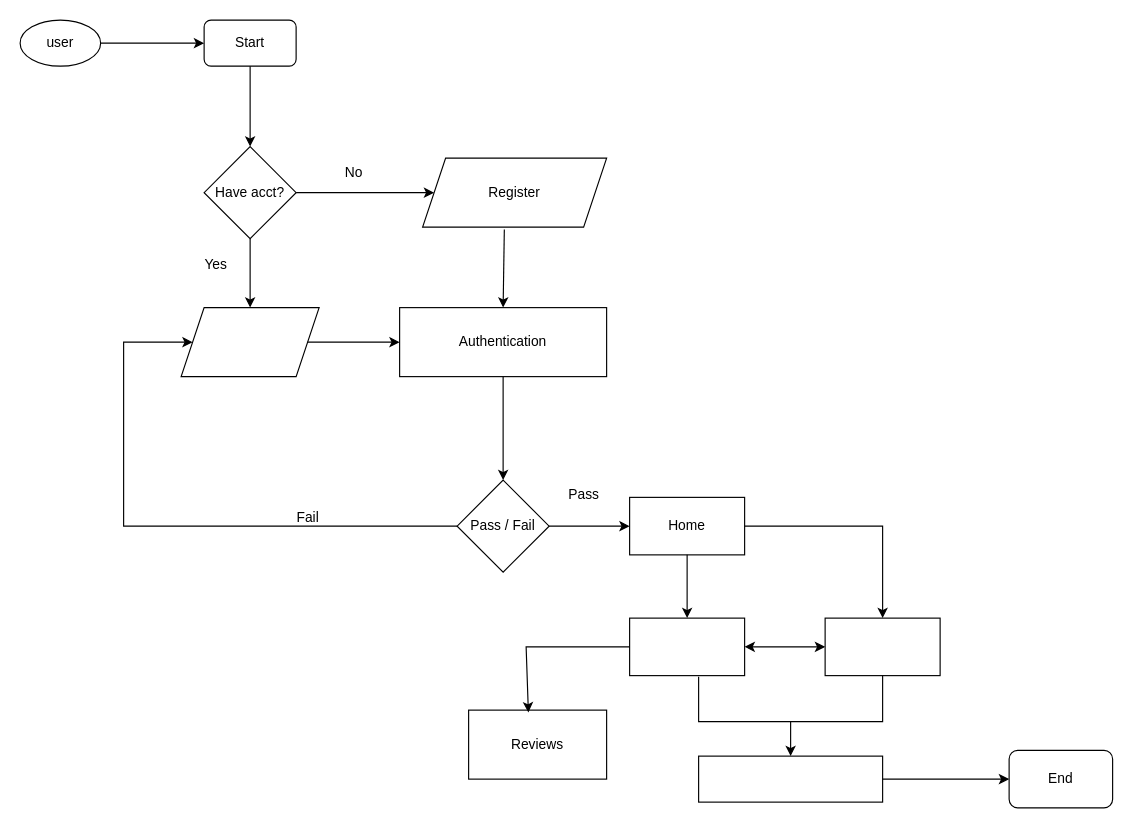
Image size: 1133x828. Some labels were removed from this diagram. Here are the shapes that lost their labels. From the top down, the centre of each, then its label:
the point at 249,341: Log in
the point at 686,646: Properties
the point at 882,646: Booking
the point at 790,778: Payments
